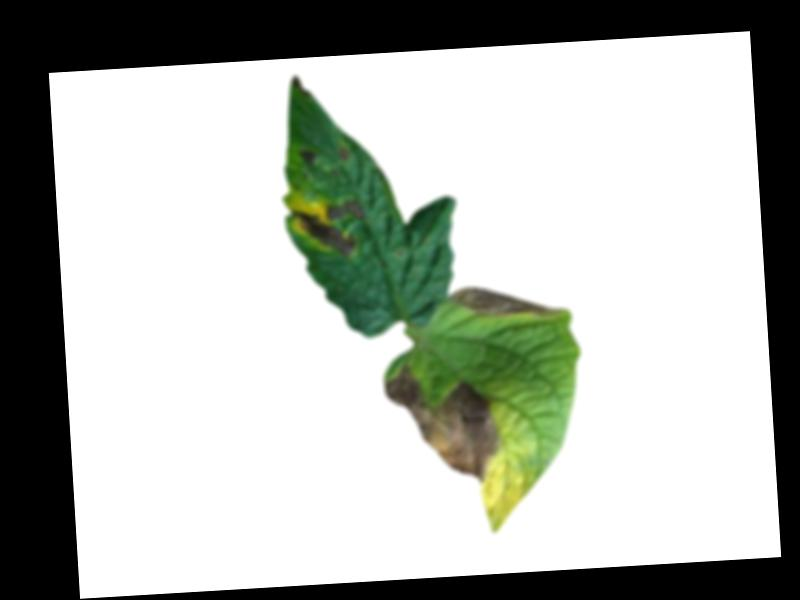Early_blight: (379, 357, 504, 489), (445, 281, 562, 325), (289, 200, 365, 261), (289, 75, 311, 99), (299, 149, 315, 167), (338, 144, 348, 162)
